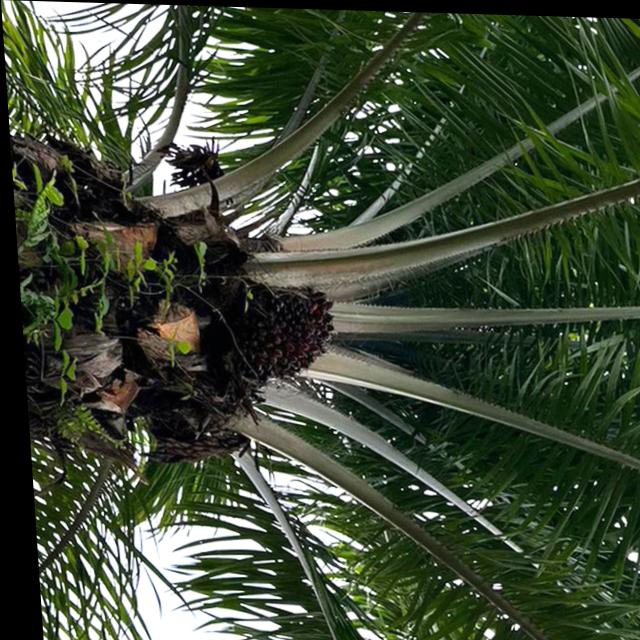ripe: (233, 281, 344, 382)
